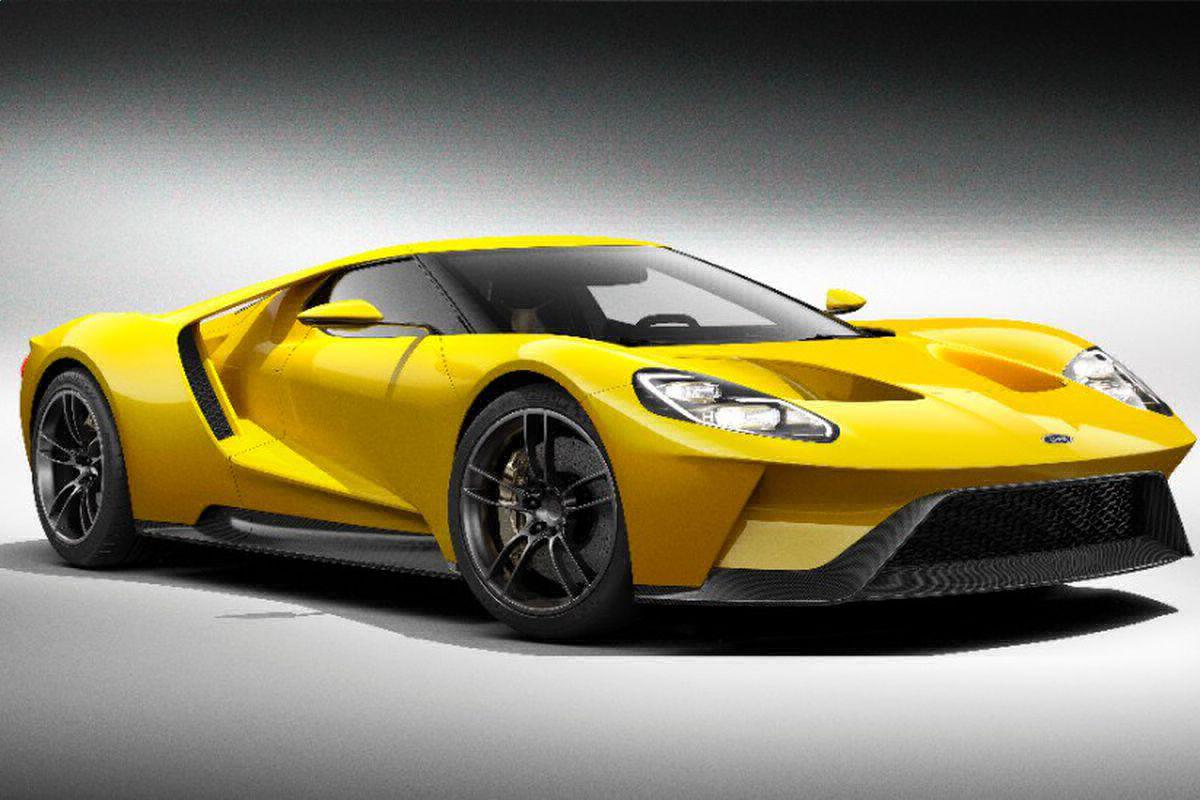small: (18, 232, 1195, 643)
